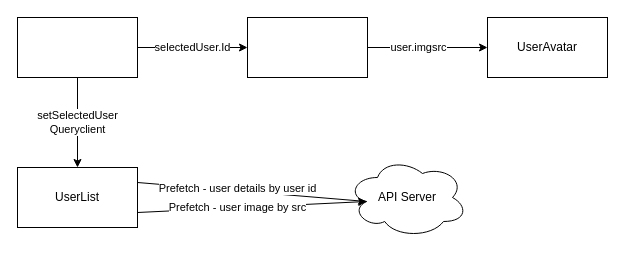
Some shapes in this 625 by 255 pixel diagram are drawn without their labels. Here are the shapes that lost their labels. From the top down, the box of each, then its label:
(16, 16, 138, 78): UserPage
(246, 16, 368, 78): UserDetail
